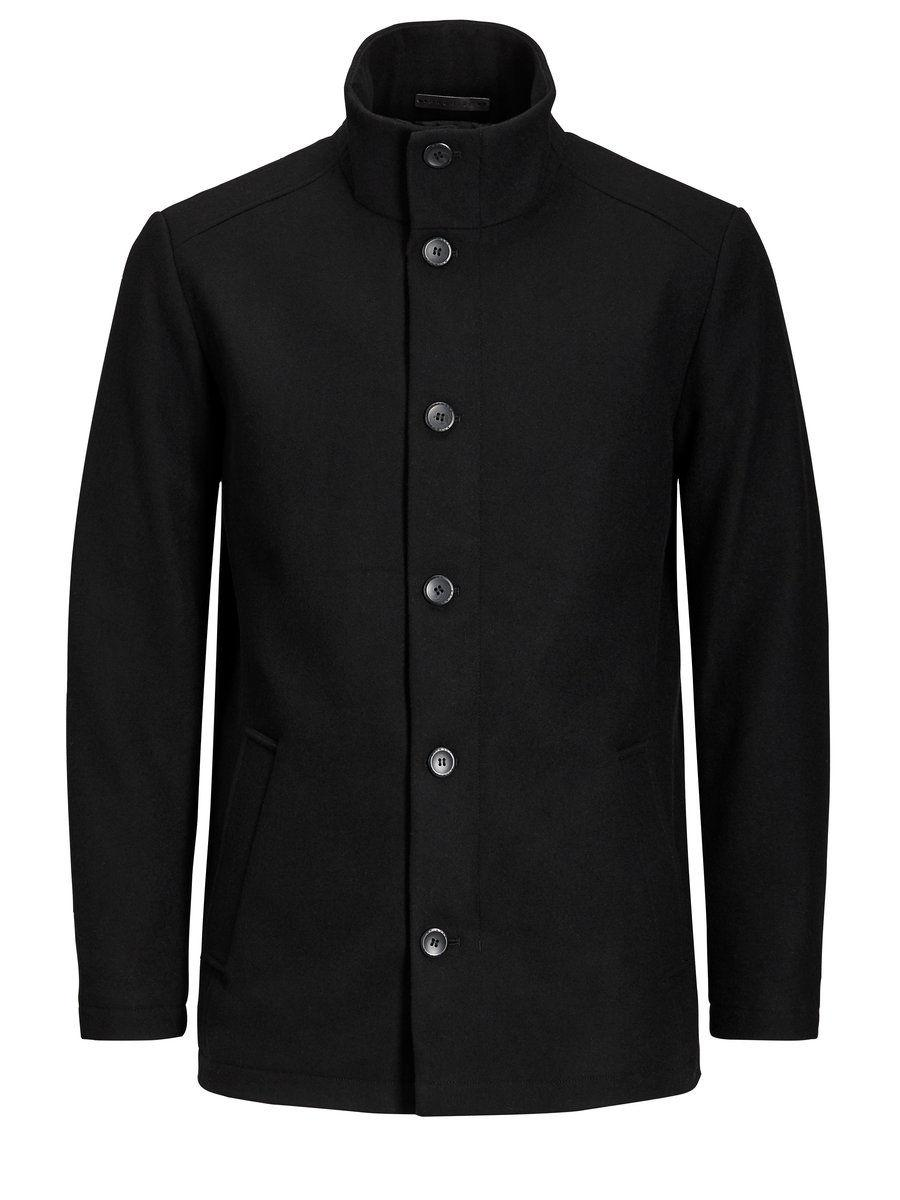teeshirt: (54, 13, 843, 1127)
